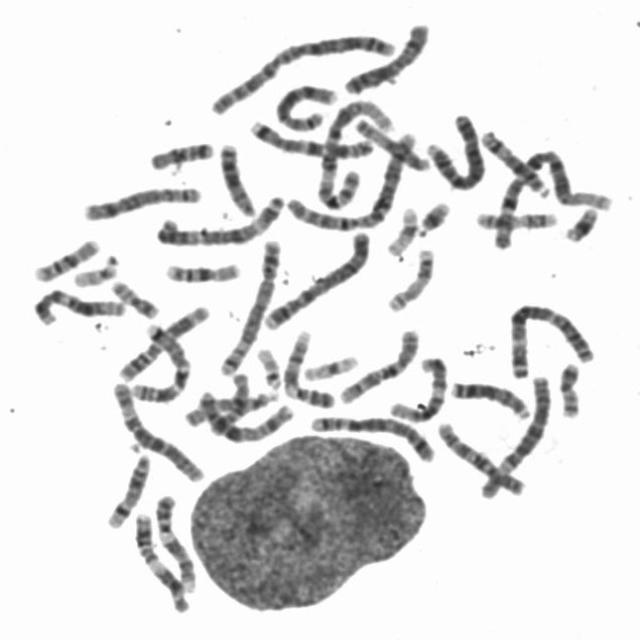A1: (486, 148, 618, 257), (308, 93, 398, 216)
A2: (204, 25, 400, 117), (282, 134, 417, 234)
A3: (149, 186, 290, 248), (501, 295, 598, 381)
B4: (256, 224, 374, 331), (420, 104, 488, 192)
B5: (213, 232, 284, 378), (302, 407, 438, 464)
C10: (430, 414, 529, 499), (332, 322, 424, 406)
C11: (111, 296, 213, 384), (127, 504, 194, 614)
C12: (383, 348, 451, 424), (26, 282, 130, 326)
C6: (106, 374, 208, 484), (471, 367, 555, 500)
C7: (242, 112, 378, 161), (122, 322, 188, 402)
C8: (76, 177, 205, 222), (270, 75, 340, 133)
C9: (149, 487, 199, 594), (277, 323, 337, 410)
D13: (444, 372, 533, 420), (212, 134, 258, 218)
D14: (474, 122, 554, 198), (99, 445, 154, 530)
D15: (349, 112, 434, 173), (178, 385, 284, 428)
E16: (27, 231, 103, 283), (158, 253, 244, 285)
E17: (381, 241, 438, 313), (468, 202, 561, 232)
E18: (143, 134, 216, 171), (213, 371, 250, 434)
F19: (380, 199, 422, 257), (297, 347, 361, 382)
F20: (104, 272, 162, 320), (552, 354, 584, 420)
G21: (558, 200, 602, 243), (411, 193, 453, 238)
G22: (67, 248, 122, 288), (250, 340, 284, 390)
X: (338, 14, 433, 96), (192, 383, 296, 444)
